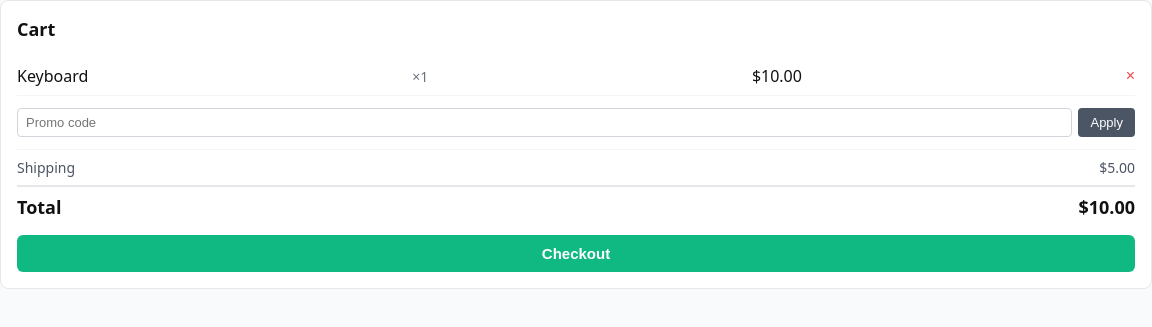
Test: MiniShop discovery targets › exposes the cart product name and asynchronous promo result as distinct text targets
The width and height of the screenshot is (1152, 327).
Expected: the text with test id "cart-item-name-1" reads "Keyboard", [17,65,88,87]
Type "SAVE20" into the field with test id "promo-input" at (545, 122), box [17,108,1072,137]
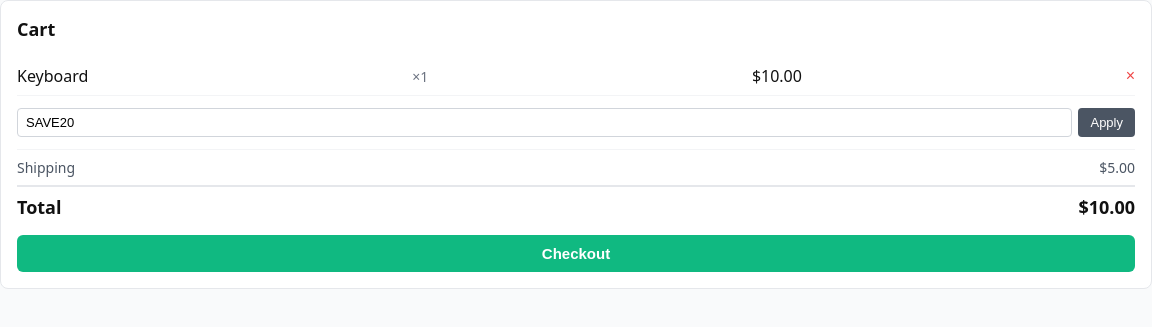
Click the button with test id "apply-promo-button" at (1107, 122), box [1078,108,1135,137]
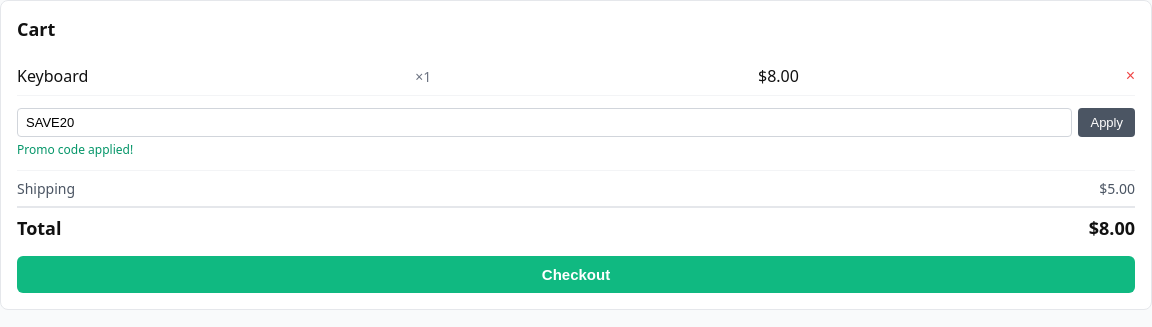
Result: the message with test id "promo-status" reads "Promo code applied!" at [17,141,133,158]
